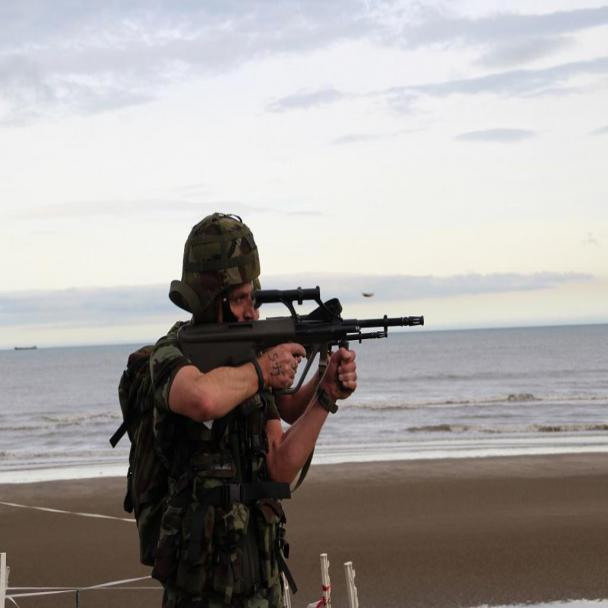Gun: (172, 286, 432, 375)
Hand: (244, 338, 310, 401), (318, 344, 364, 410)
